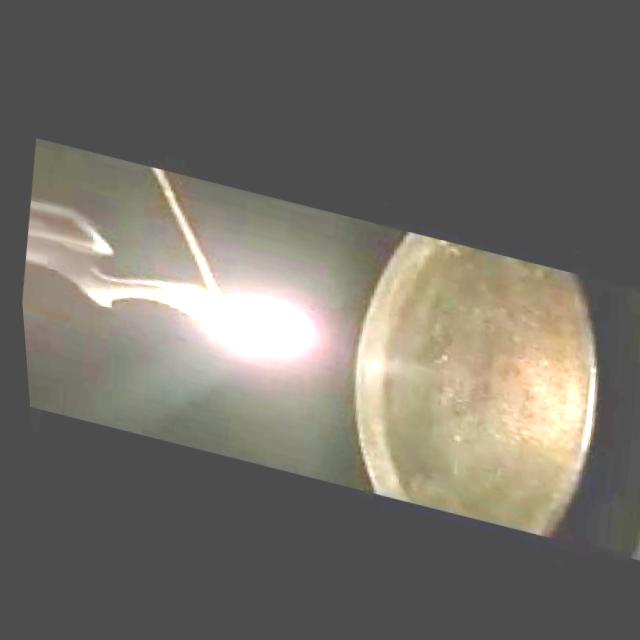helmet: (115, 258, 313, 362)
